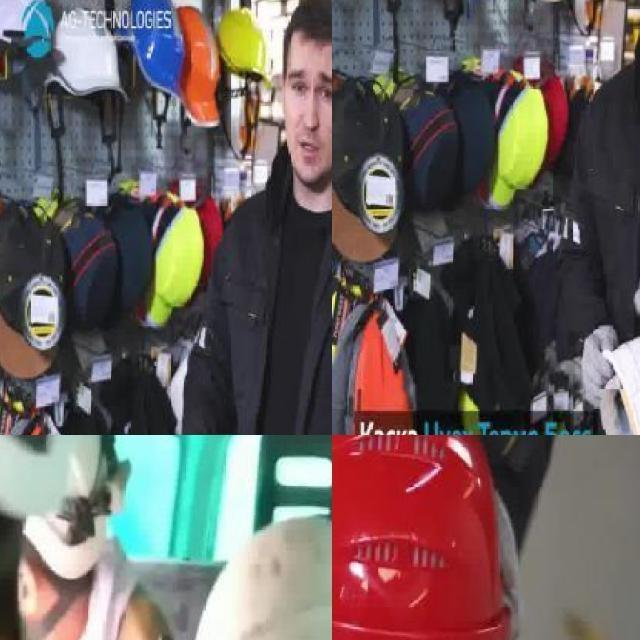apron: (486, 477, 527, 640), (580, 324, 619, 410)
